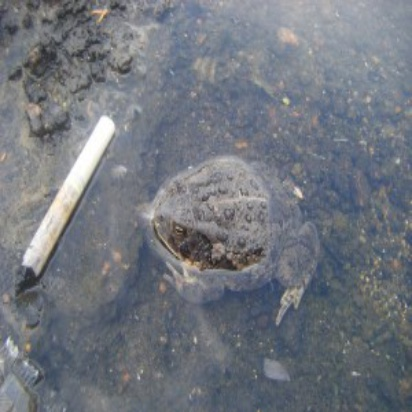cigarette: (19, 111, 117, 294)
